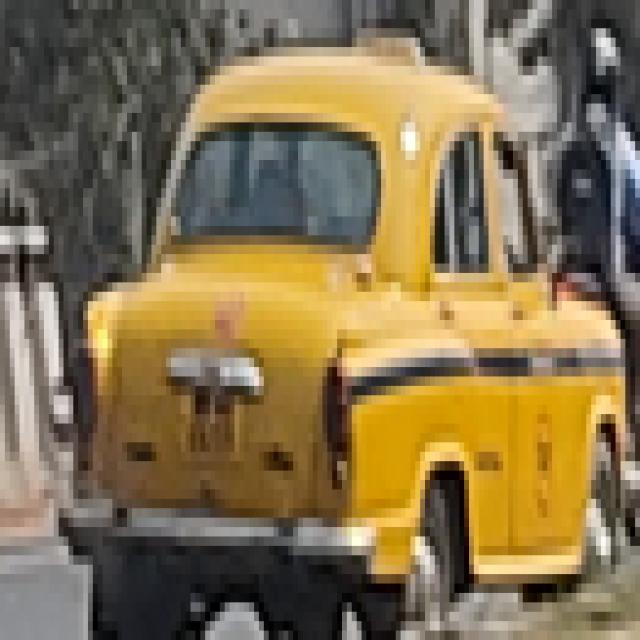ambasador_taxi: (62, 14, 621, 631)
